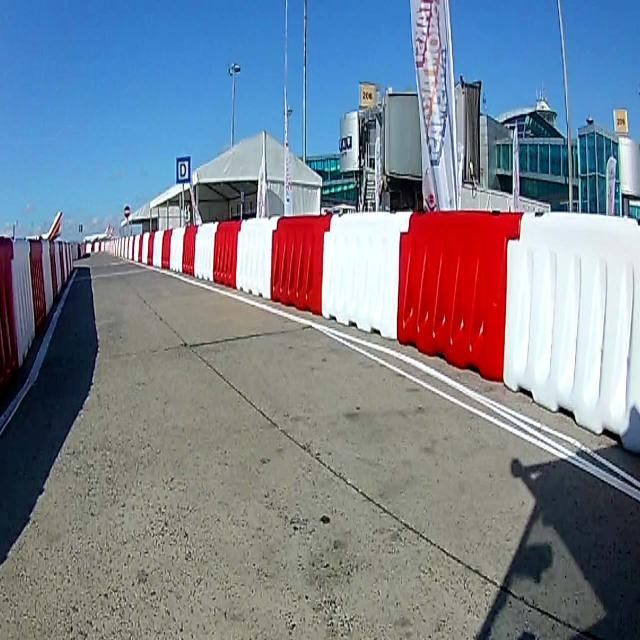durak: (176, 156, 190, 182)
girisyok: (124, 204, 130, 215)
